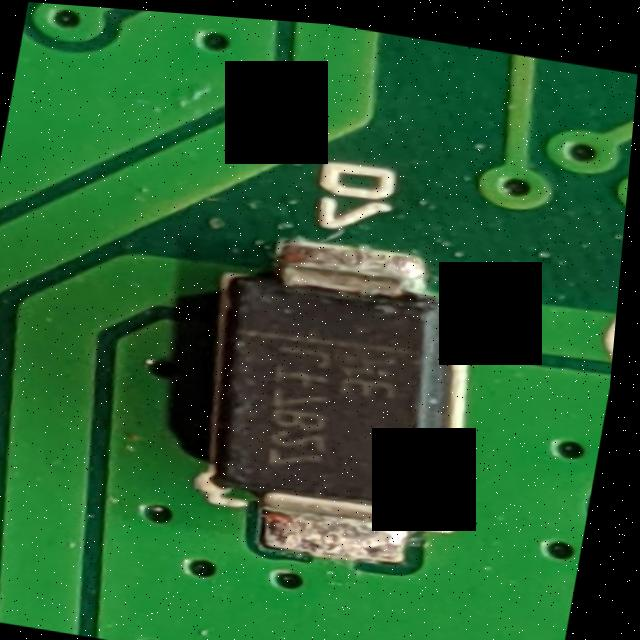diode -D1-: (192, 251, 486, 538)
